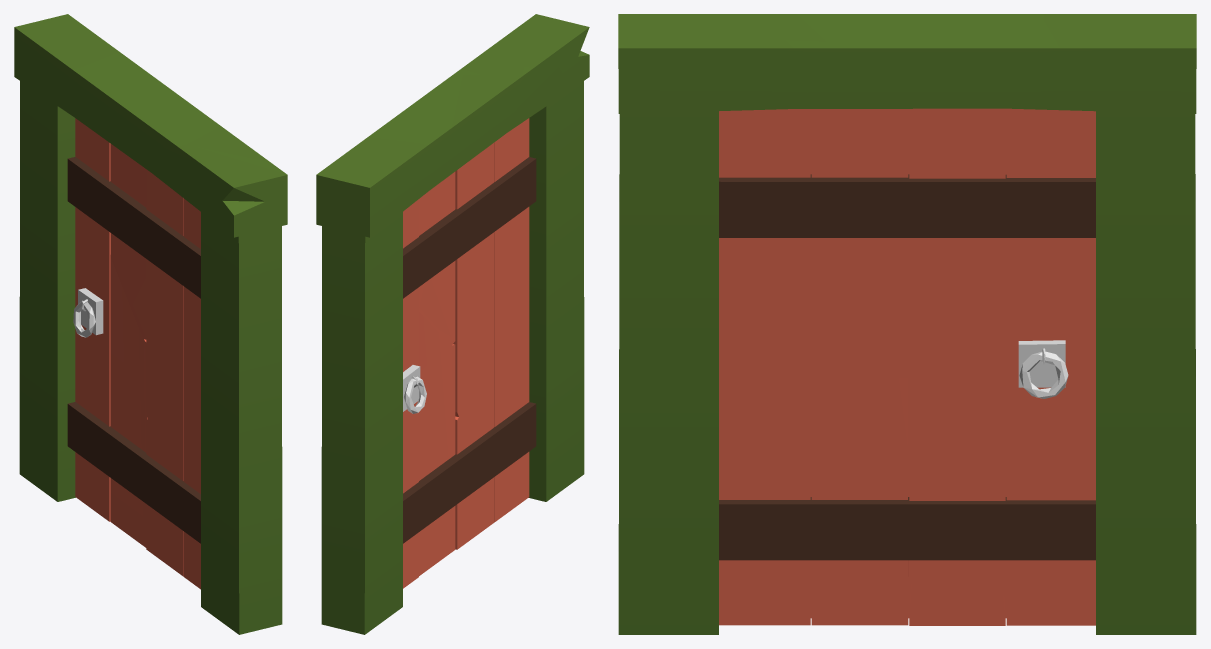
Rendered from WoodenDoor.fbx.
3 views of the same model, side by side, from view 1: azimuth 30°, elevation 25°; view 2: azimuth 150°, elevation 25°; view 3: azimuth 270°, elevation 25° (orthographic). The views are drawn at different scales.
Parts seen in each view (by area): view 1: Door_02.004, Door_02.005; view 2: Door_02.004, Door_02.005; view 3: Door_02.005, Door_02.004.
Boxes of the visible parts, x1,y1,x2,y2 form: Door_02.004: [14, 14, 287, 634]; Door_02.005: [67, 118, 200, 589]; Door_02.004: [316, 14, 589, 634]; Door_02.005: [403, 118, 536, 588]; Door_02.005: [719, 108, 1095, 625]; Door_02.004: [618, 14, 1196, 634].
Bounding box in the file's own units: 23.76 × 190 × 168.
